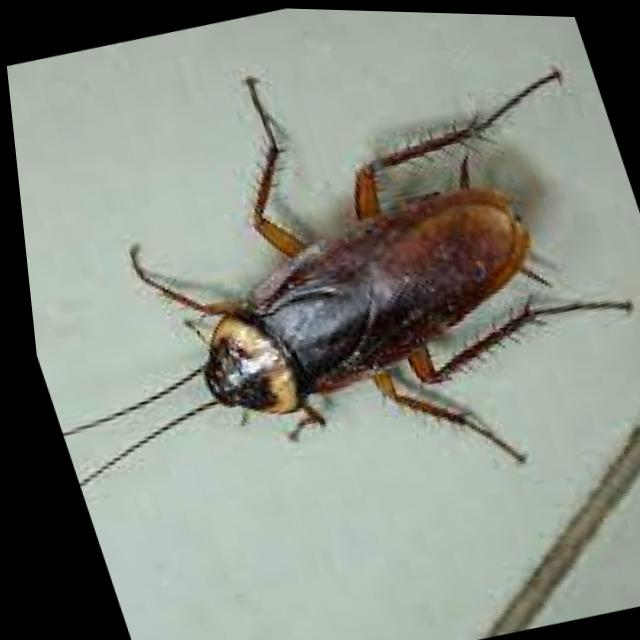Cockroach: (0, 0, 640, 572)
